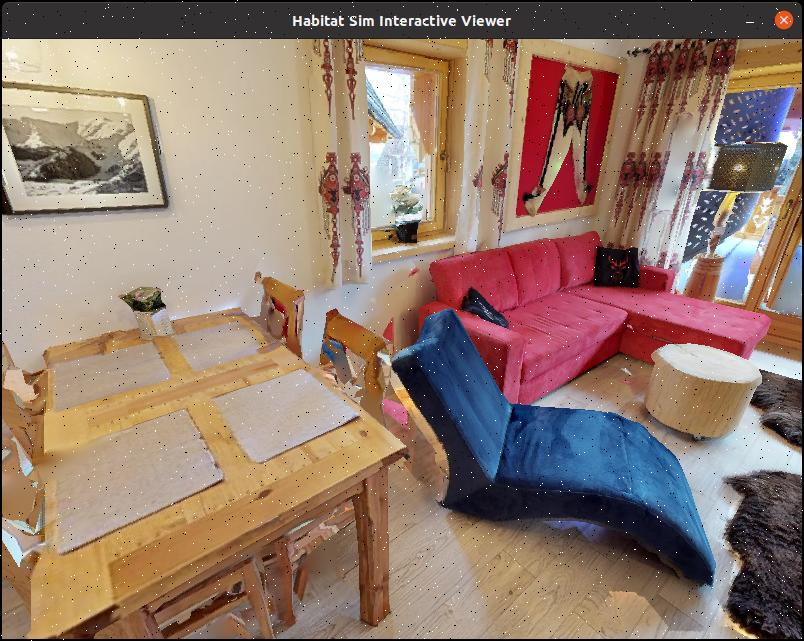sofa: (405, 222, 776, 440)
table: (17, 300, 411, 641)
